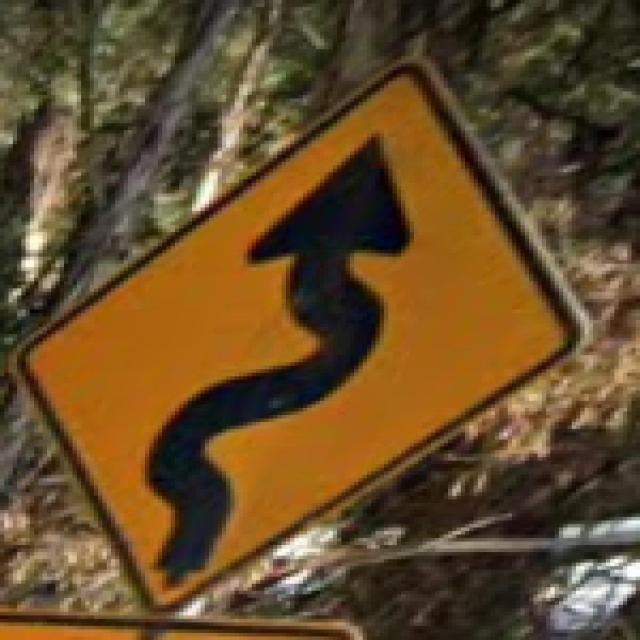Banyak Tikungan Pertama Kiri: (0, 42, 593, 619)
